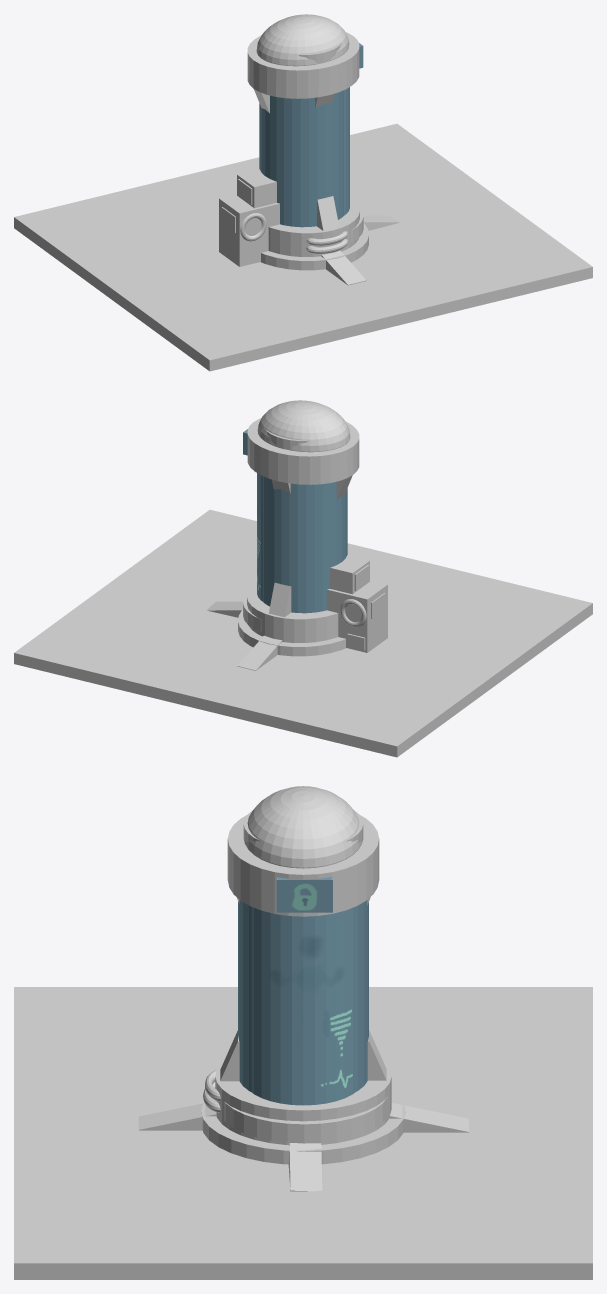
Rendered from CyroClosed.glb.
3 views of the same model, one above another, from view 1: azimuth 30°, elevation 25°; view 2: azimuth 150°, elevation 25°; view 3: azimuth 270°, elevation 25° (orthographic). The views are drawn at different scales.
Visible parts, largest first — view 1: Cube.006, Tank, Top, Sphere, BackMachine, Base, BaseBottom, Cube.001, Cube.007, Tank.001, Struts.002; view 2: Cube.006, Tank, Top, Sphere, Base, BackMachine, BaseBottom, Cube.001, Cube.005, Tank.001, Struts; view 3: Cube.006, Tank.001, Sphere, Top, Tank, Base, BaseBottom, Cylinder, Cube, Cube.008, Cube.005, Cube.007 (+2 smaller).
Boxes of the visible parts, x1=… form: Cube.006: x1=14, y1=123, x2=592, y2=371; Tank: x1=259, y1=90, x2=343, y2=227; Top: x1=247, y1=32, x2=359, y2=98; Sphere: x1=256, y1=14, x2=349, y2=66; BackMachine: x1=219, y1=194, x2=279, y2=266; Base: x1=268, y1=196, x2=359, y2=256; BaseBottom: x1=261, y1=223, x2=368, y2=270; Cube.001: x1=237, y1=169, x2=276, y2=208; Cube.007: x1=321, y1=250, x2=366, y2=285; Tank.001: x1=344, y1=87, x2=349, y2=215; Struts.002: x1=317, y1=196, x2=339, y2=230; Cube.006: x1=14, y1=509, x2=592, y2=757; Tank: x1=263, y1=476, x2=347, y2=613; Top: x1=247, y1=418, x2=359, y2=484; Sphere: x1=257, y1=400, x2=350, y2=452; Base: x1=247, y1=582, x2=338, y2=642; BackMachine: x1=327, y1=580, x2=387, y2=652; BaseBottom: x1=238, y1=609, x2=345, y2=656; Cube.001: x1=330, y1=555, x2=369, y2=594; Cube.005: x1=237, y1=635, x2=282, y2=670; Tank.001: x1=257, y1=473, x2=262, y2=601; Struts: x1=268, y1=582, x2=291, y2=617; Cube.006: x1=14, y1=987, x2=592, y2=1279; Tank.001: x1=251, y1=907, x2=355, y2=1105; Sphere: x1=245, y1=786, x2=361, y2=868; Top: x1=227, y1=814, x2=379, y2=916; Tank: x1=238, y1=900, x2=368, y2=1091; Base: x1=215, y1=1061, x2=391, y2=1144; BaseBottom: x1=201, y1=1091, x2=405, y2=1164; Cylinder: x1=224, y1=1097, x2=387, y2=1143; Cube: x1=276, y1=876, x2=332, y2=912; Cube.008: x1=288, y1=1143, x2=322, y2=1191; Cube.005: x1=389, y1=1103, x2=468, y2=1132; Cube.007: x1=138, y1=1103, x2=216, y2=1130.
Size of the model in its own units: 25.5 by 14.85 by 22.57.
3 materials, 3 textured.
